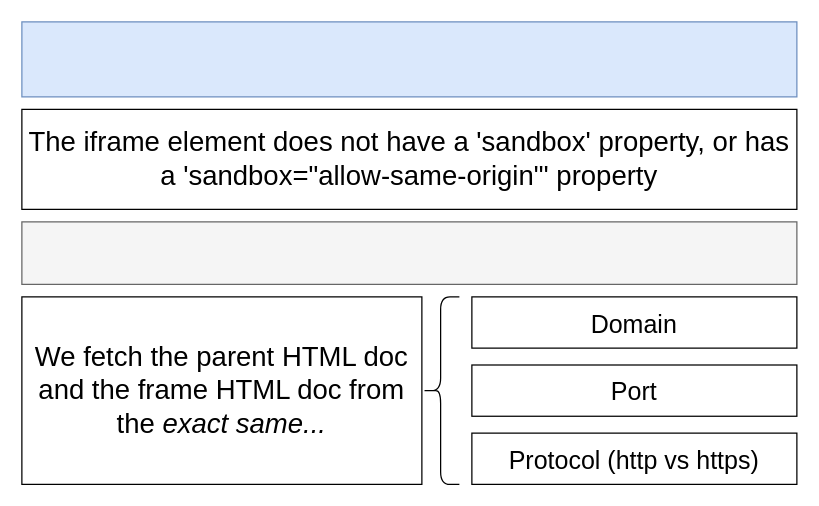
This 819x506 diagram has some shape labels left out. Each missing label, with the centre of its shape:
AND: point 409,252
Direct access between frames is allowed when...: point 409,59
